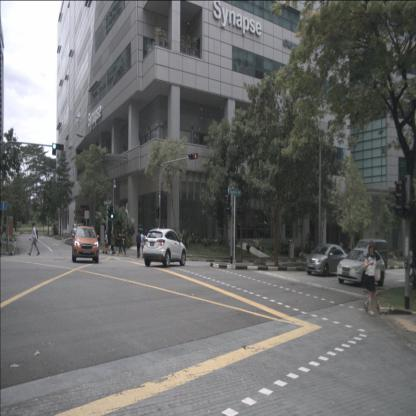human-pedestrian-adult: (364, 241, 380, 317), (27, 222, 40, 256), (136, 230, 141, 258), (110, 230, 115, 256), (104, 230, 109, 256), (140, 230, 144, 259), (117, 232, 122, 255), (122, 232, 126, 256), (0, 225, 3, 256), (351, 240, 355, 259), (339, 240, 343, 258), (348, 241, 351, 254)
vehicle-car: (336, 246, 386, 286), (143, 228, 186, 268), (354, 236, 388, 274), (306, 244, 348, 274), (72, 226, 99, 262), (71, 224, 82, 238)
